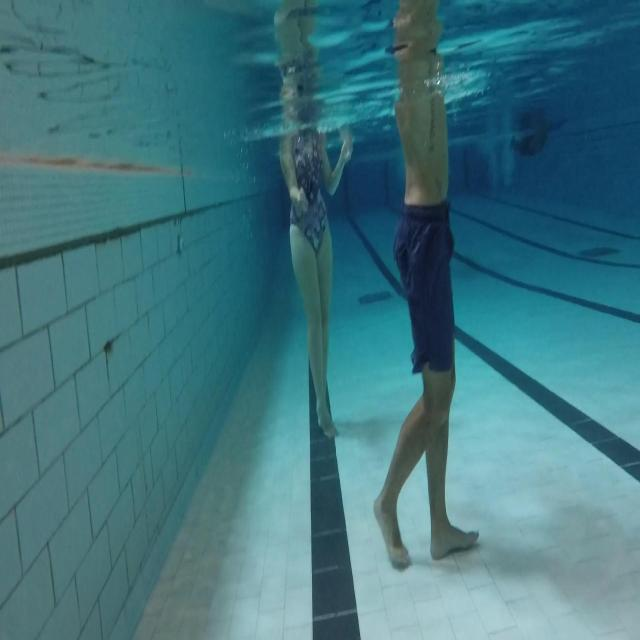human: (372, 1, 480, 570), (274, 4, 354, 440)
